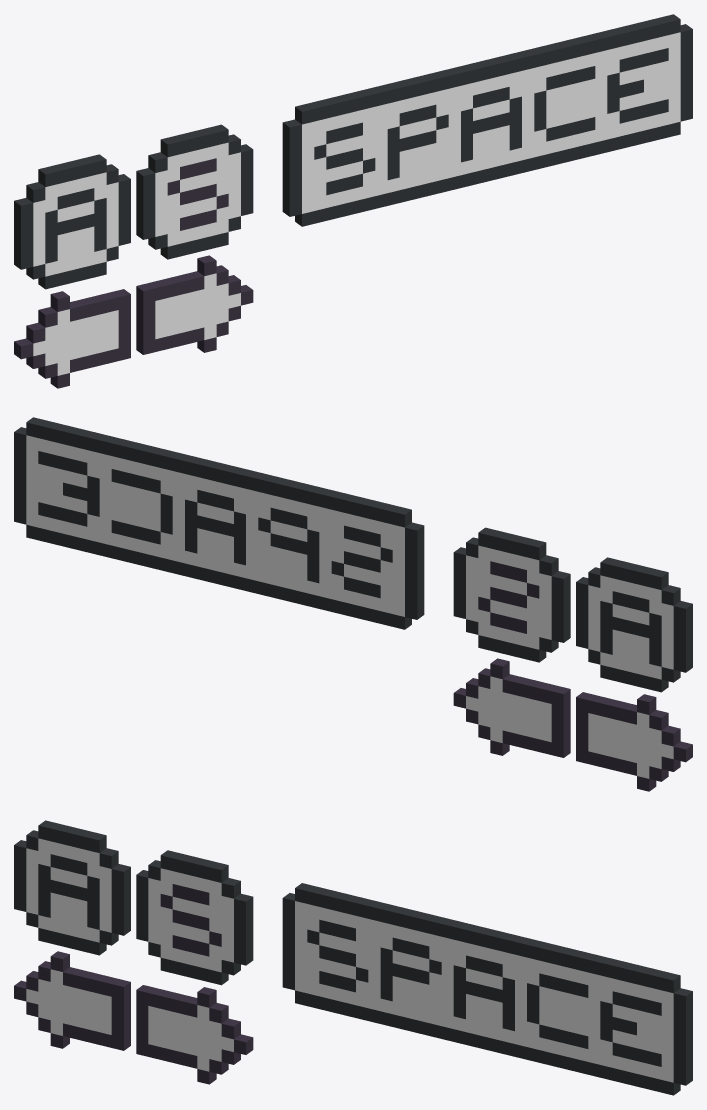
File: controles.obj
3 views of the same model, one above another, from view 1: azimuth 30°, elevation 25°; view 2: azimuth 150°, elevation 25°; view 3: azimuth 330°, elevation 25° (orthographic).
Size of the model in its own units: 5.5 by 1.7 by 0.1.
1 material, 1 textured.
